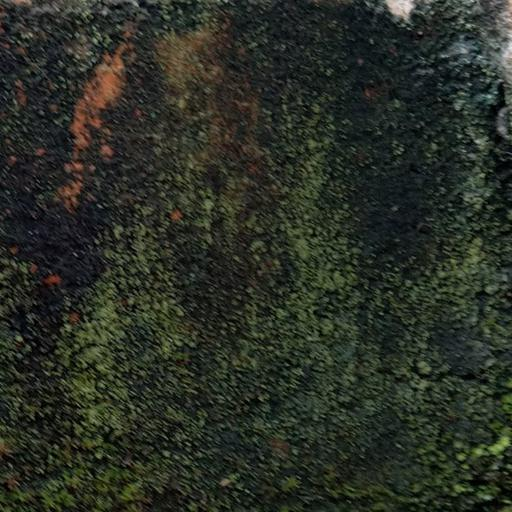algae: (7, 1, 512, 512)
